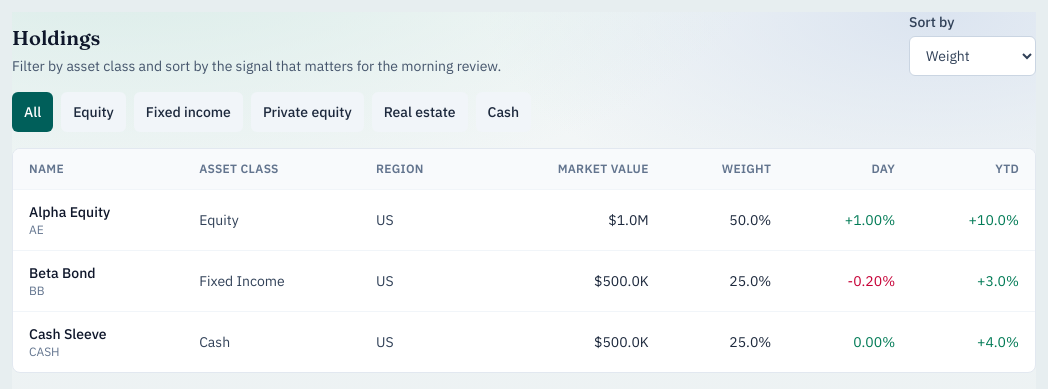
Scenario: HoldingsTable › filters holdings by asset class
Expected: the text "Alpha Equity" is shown, top-left (29, 203), bottom-right (110, 221)
Expected: the text "Beta Bond" is shown, top-left (29, 264), bottom-right (96, 282)
What coordinates should you click on to do the following:
click the button "Equity"
I would click on:
 (93, 112)
Its box is top-left (61, 92), bottom-right (126, 132).
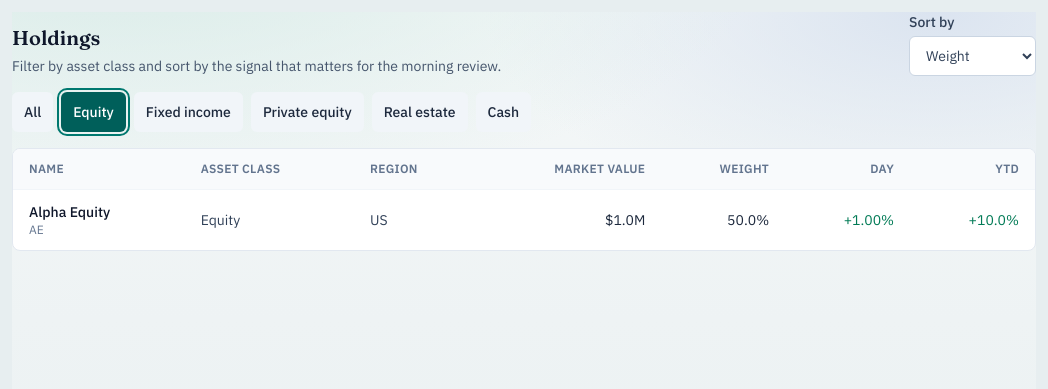
Expected: the text "Alpha Equity" is shown, top-left (29, 203), bottom-right (110, 221)
Expected: the text "Beta Bond" is gone
Expected: the text "Cash Sleeve" is gone
